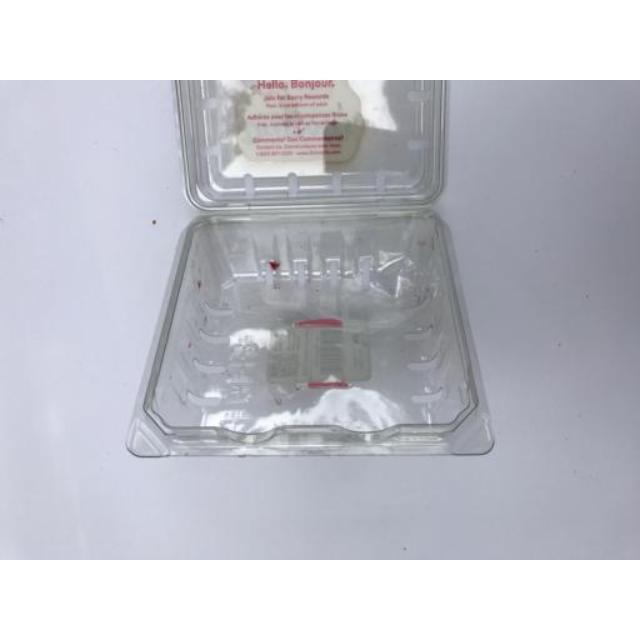plastic: (126, 80, 493, 456)
